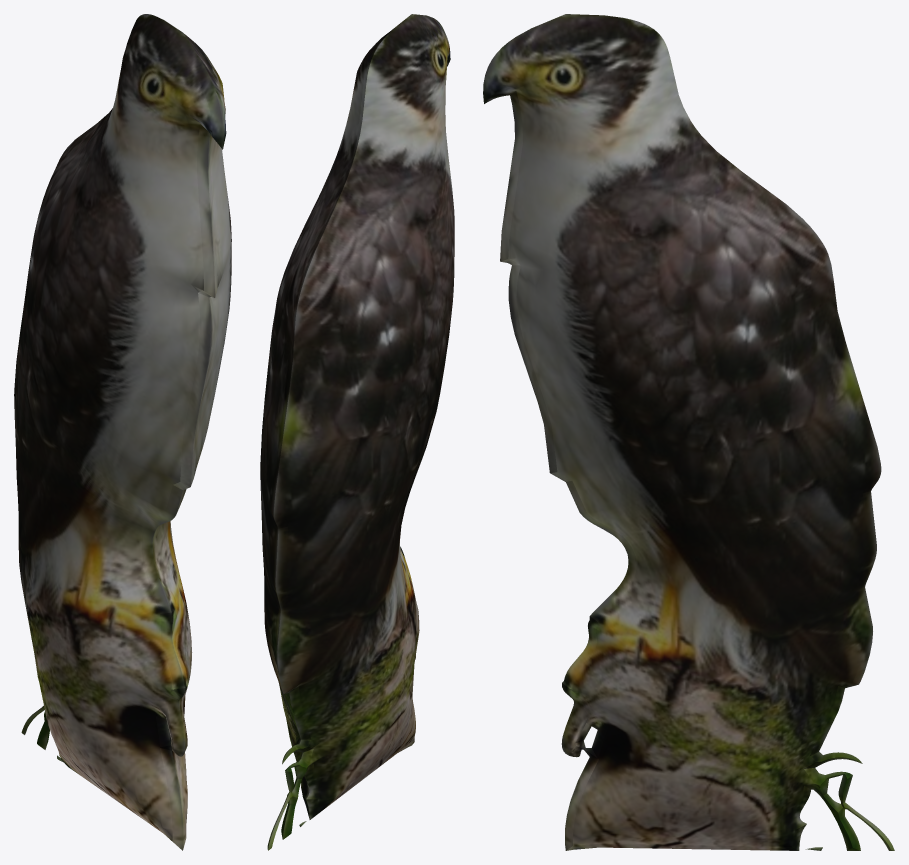
File: Accipiter-bicolor1.gltf
The picture shows the model from 3 angles, left to right: view 1: azimuth 30°, elevation 25°; view 2: azimuth 150°, elevation 25°; view 3: azimuth 270°, elevation 25°; orthographic projection. The views are drawn at different scales.
Parts seen in each view (by area): view 1: node1; view 2: node1; view 3: node1.
Boxes of the visible parts, x1,y1,x2,y2 form: node1: [14, 14, 231, 850]; node1: [260, 14, 454, 850]; node1: [483, 14, 894, 850].
Bounding box in the file's own units: 0.2315 × 1.12 × 0.5.
Materials: 1 (1 with a texture image).
